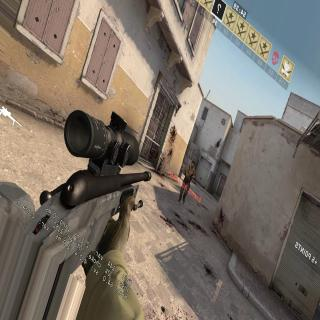T-Body: (178, 159, 196, 203)
T-Head: (191, 160, 195, 167)
